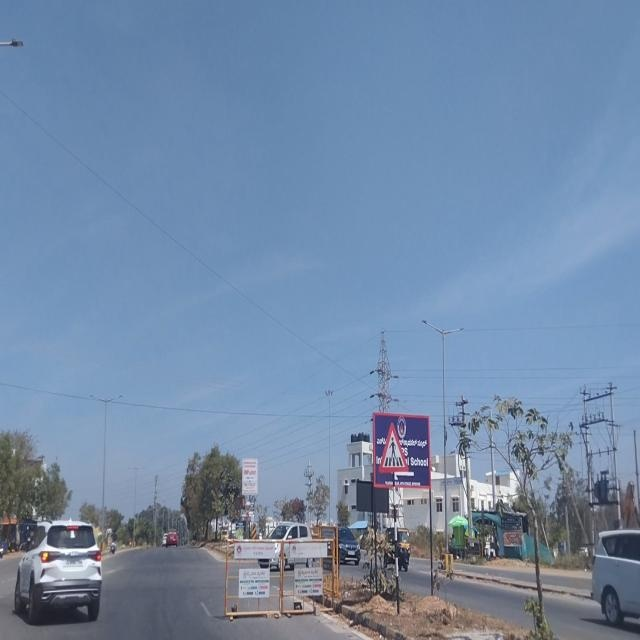bien_nguy_hiem: (381, 422, 406, 472)
